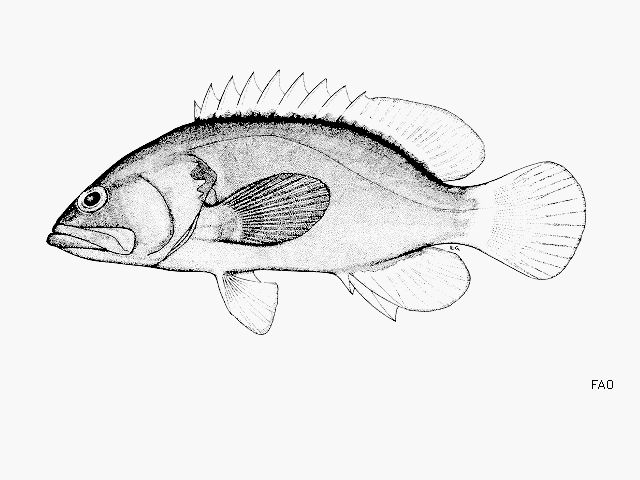fish: (45, 70, 587, 335)
